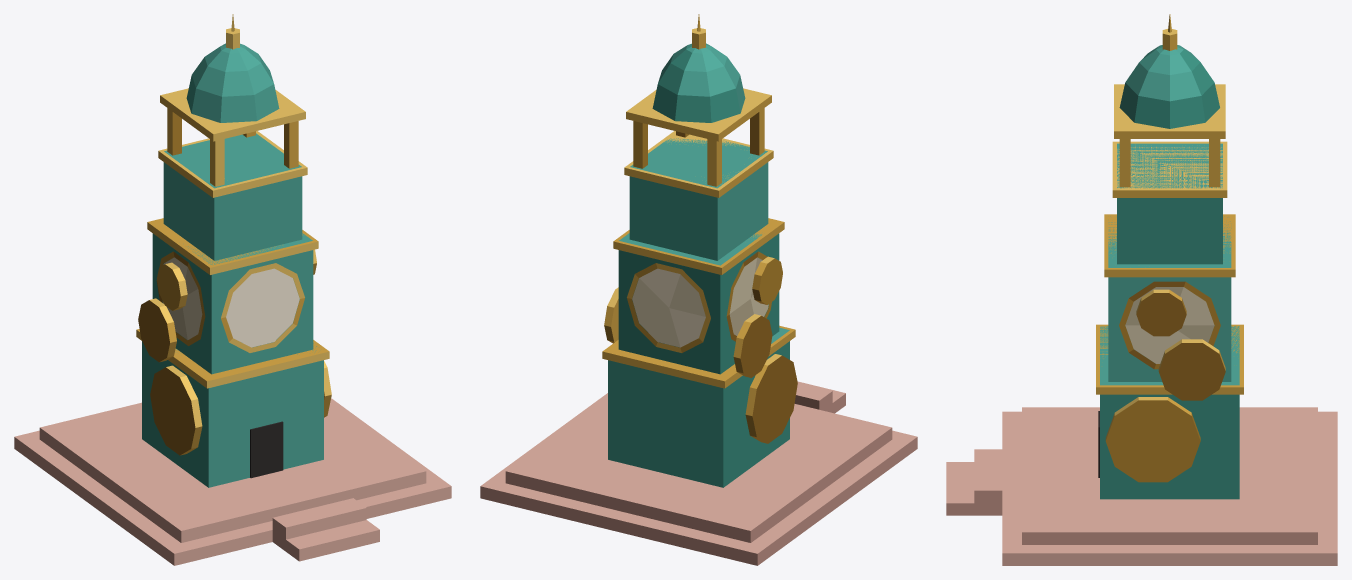
The model's file is landmark-far.glb.
3 renders of one model, left to right at view 1: azimuth 30°, elevation 25°; view 2: azimuth 150°, elevation 25°; view 3: azimuth 270°, elevation 25°, orthographic. The views are drawn at different scales.
Parts seen in each view (by area): view 1: clocktower-far; view 2: clocktower-far; view 3: clocktower-far.
Boxes of the visible parts, x1,y1,x2,y2 form: clocktower-far: (14, 14, 451, 565); clocktower-far: (480, 14, 917, 565); clocktower-far: (946, 14, 1337, 565).
Size of the model in its own units: 24 by 38 by 28.
Materials: 1 (1 with a texture image).
